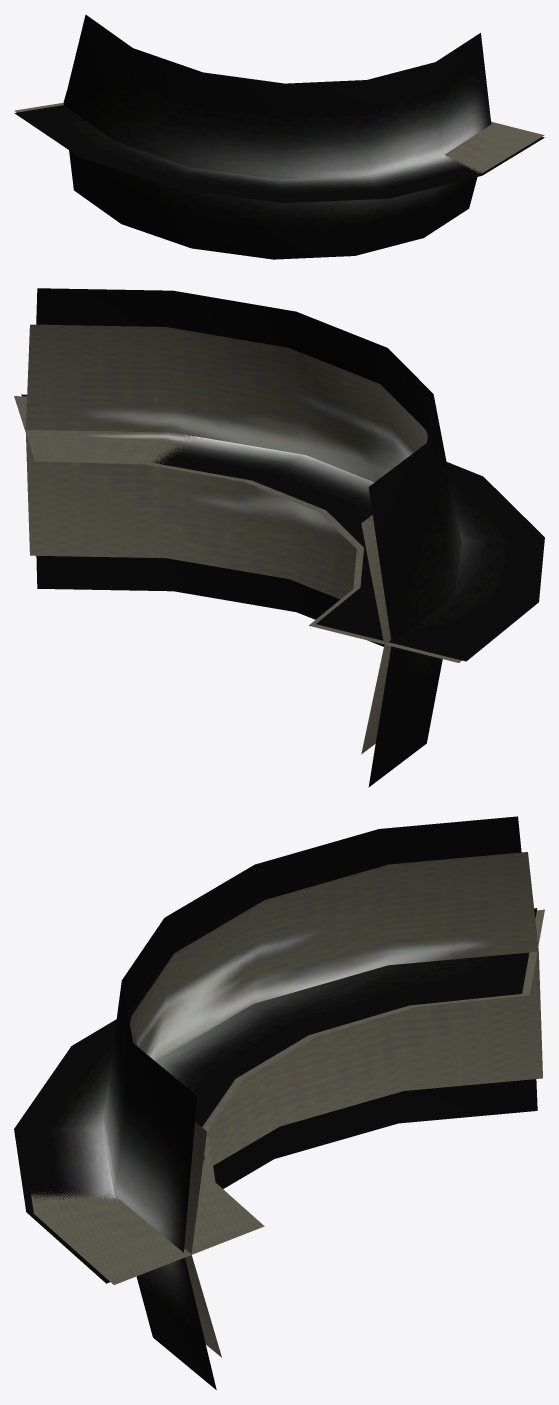
The model's file is Effect_1051tattack.fbx.
3 views of the same model, one above another, from view 1: azimuth 30°, elevation 25°; view 2: azimuth 150°, elevation 25°; view 3: azimuth 270°, elevation 25° (orthographic). The views are drawn at different scales.
Parts seen in each view (by area): view 1: Effect_1001tattack02, Effect_1001tattack01; view 2: Effect_1001tattack01, Effect_1001tattack02; view 3: Effect_1001tattack01, Effect_1001tattack02.
Boxes of the visible parts, x1,y1,x2,y2 form: Effect_1001tattack02: [14, 15, 544, 259]; Effect_1001tattack01: [14, 92, 544, 173]; Effect_1001tattack01: [14, 324, 461, 754]; Effect_1001tattack02: [21, 288, 544, 787]; Effect_1001tattack01: [31, 852, 544, 1357]; Effect_1001tattack02: [14, 816, 537, 1389].
Bounding box in the file's own units: 8.72 × 4.12 × 5.93.
2 materials, 2 textured.
